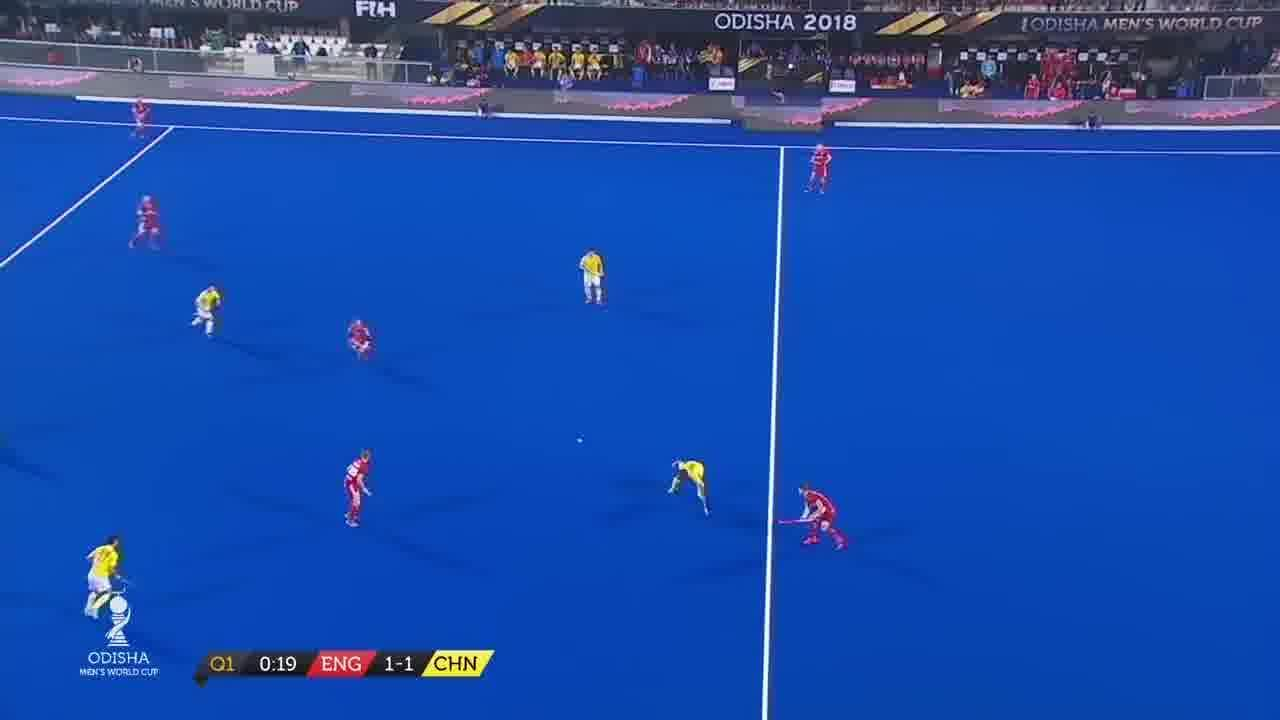ball: (575, 437, 585, 446)
